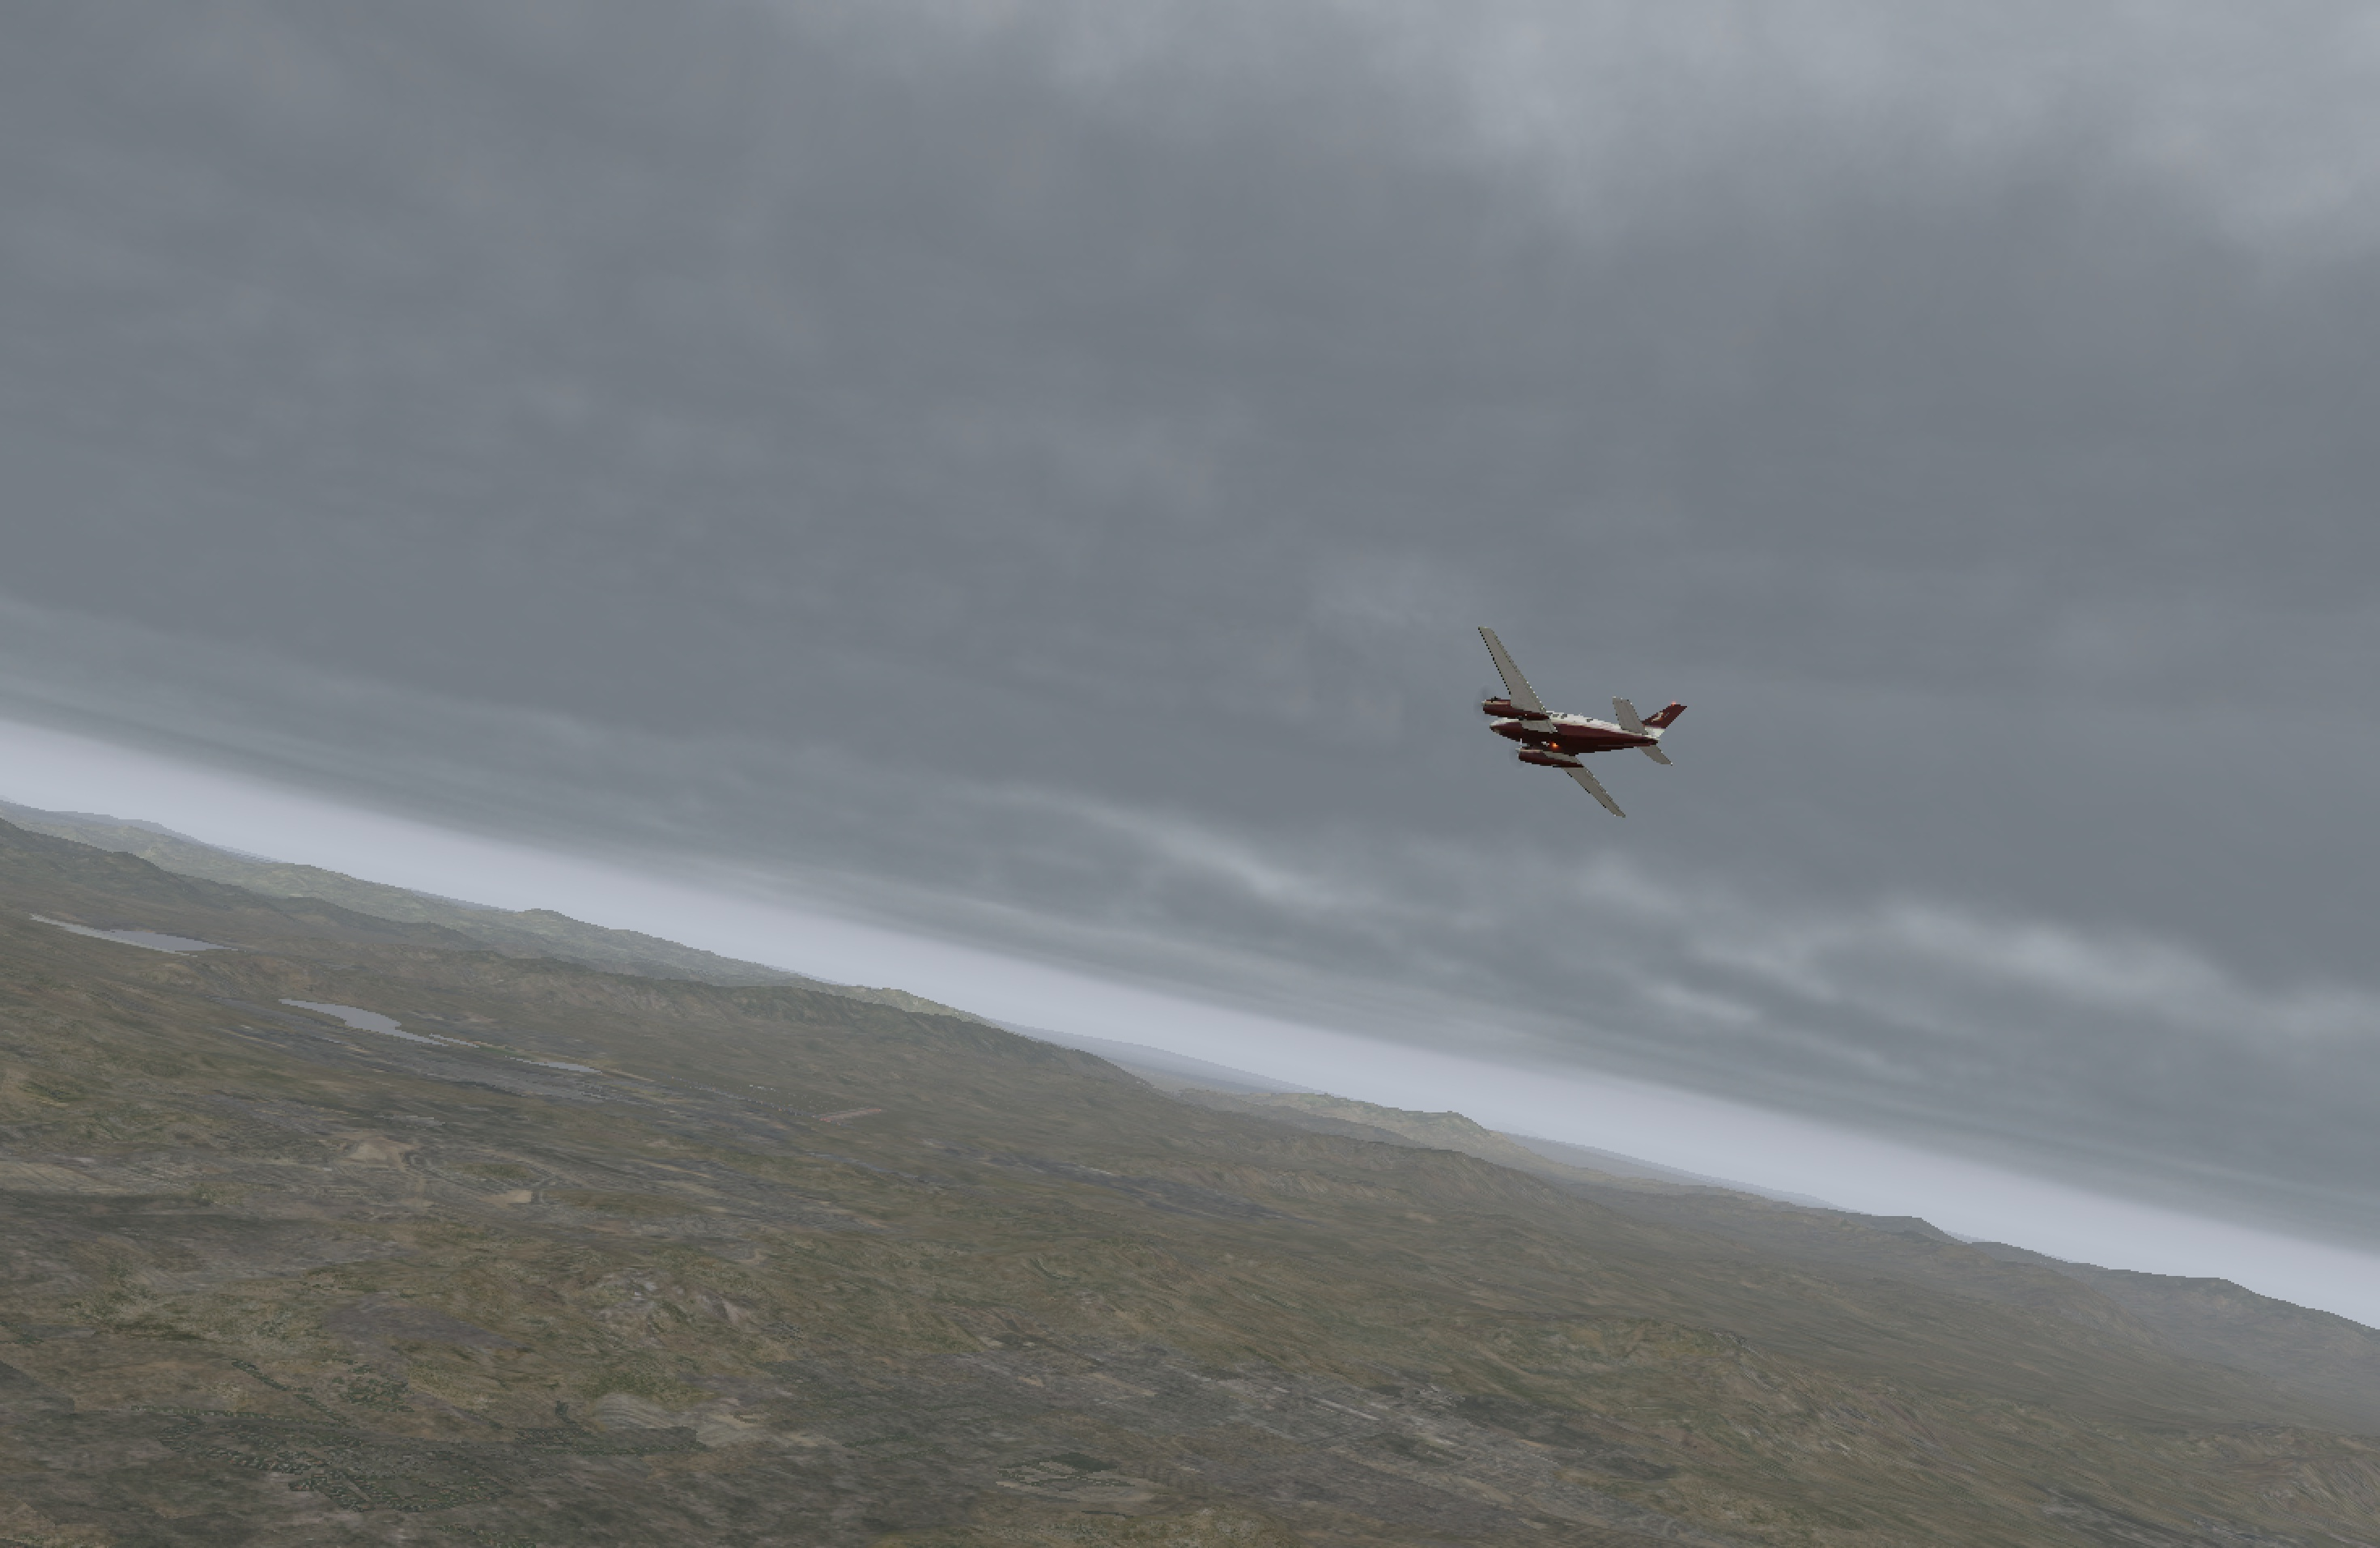aircraft: (1386, 682, 1691, 797)
